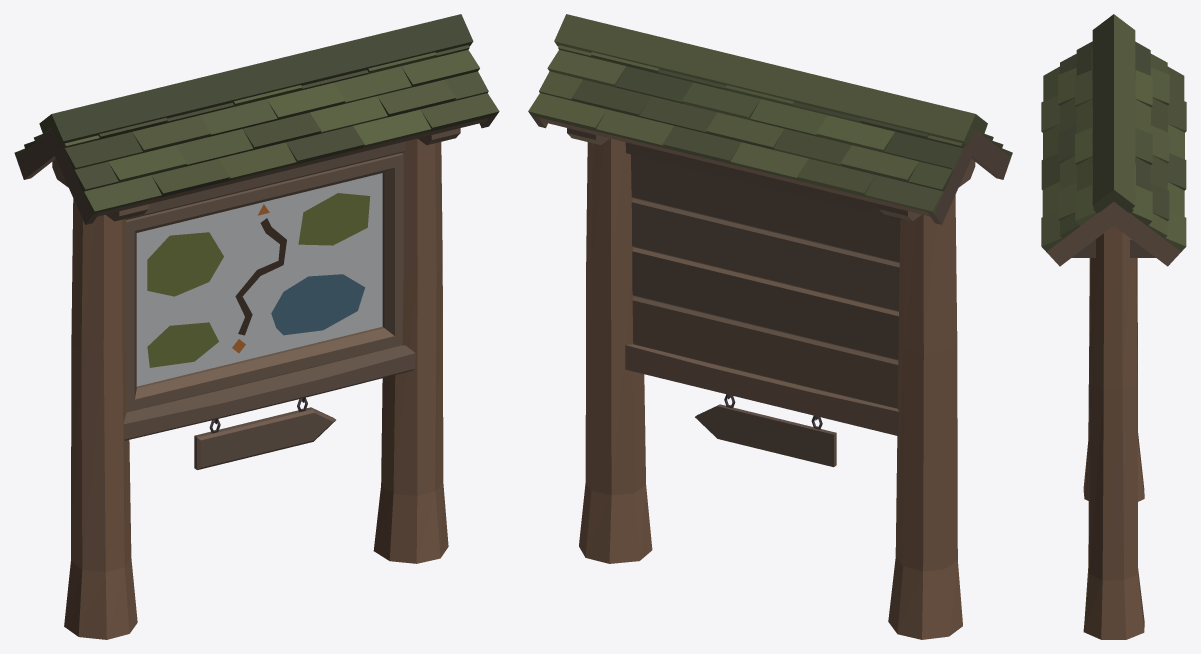
Rendered from trailhead-sign.glb.
3 views of the same model, side by side, from view 1: azimuth 30°, elevation 25°; view 2: azimuth 150°, elevation 25°; view 3: azimuth 270°, elevation 25° (orthographic). The views are drawn at different scales.
Parts seen in each view (by area): view 1: sign-body, plaque-mesh; view 2: sign-body, plaque-mesh; view 3: sign-body.
Part boxes in pixels (left/top/right/bottom): sign-body: left=14, top=14, right=499, bottom=639; plaque-mesh: left=194, top=397, right=335, bottom=469; sign-body: left=528, top=14, right=1012, bottom=639; plaque-mesh: left=695, top=394, right=836, bottom=467; sign-body: left=1041, top=14, right=1186, bottom=639.
Size of the model in its own units: 1.97 by 2.4 by 0.6897.
